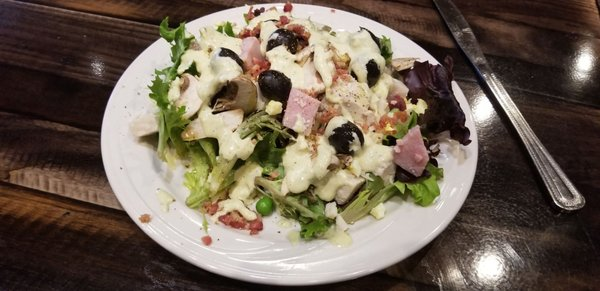sandwich: (432, 1, 586, 213)
